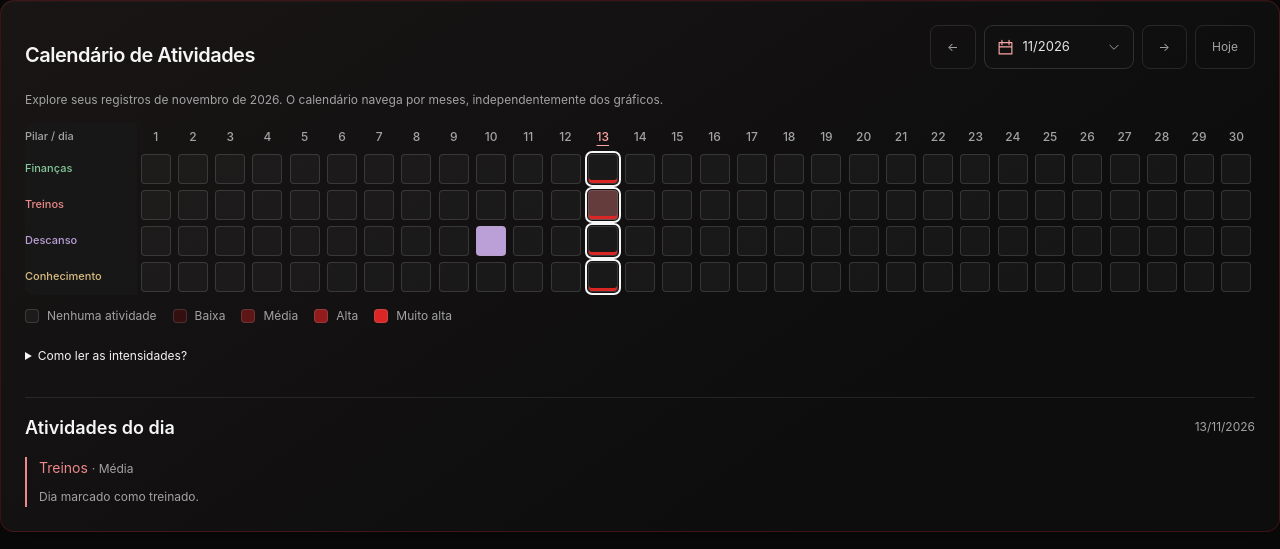
Scenario: Navegação temporal do calendário › rola somente a área do calendário ao abrir um mês e suavemente ao tocar em Hoje
This screenshot has width=1280, height=549.
Click the button named "Mês anterior de atividades": (953, 47) [930,25,976,69]
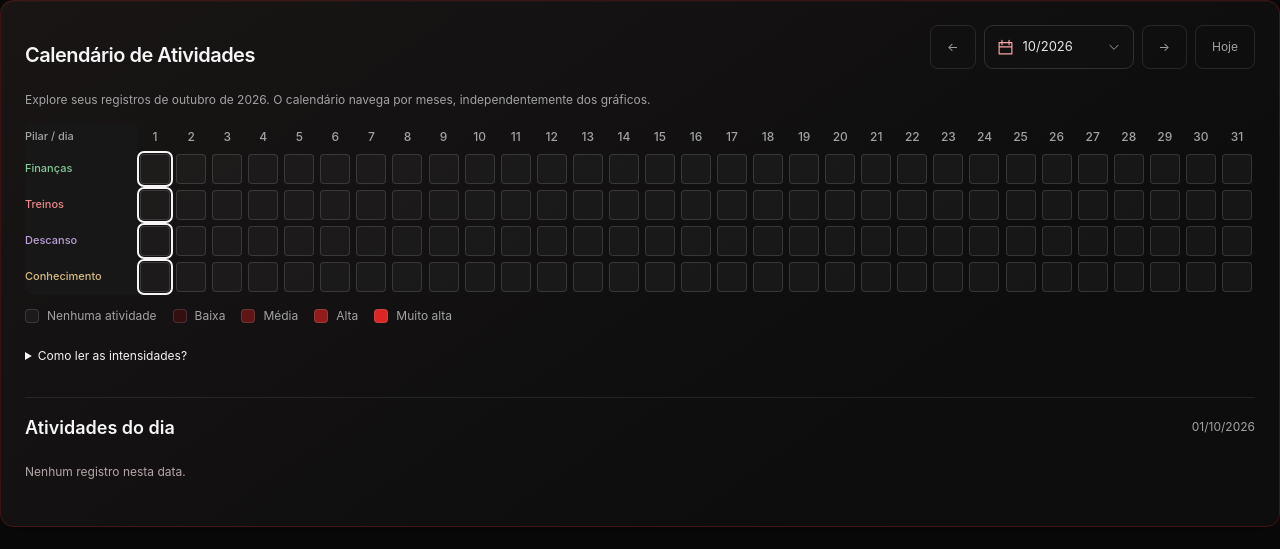
expect the element "Atividades do dia" shows "01/10/2026": met, box [1192,419,1255,434]
Click the button "Hoje": (1225, 47) [1195,25,1255,69]
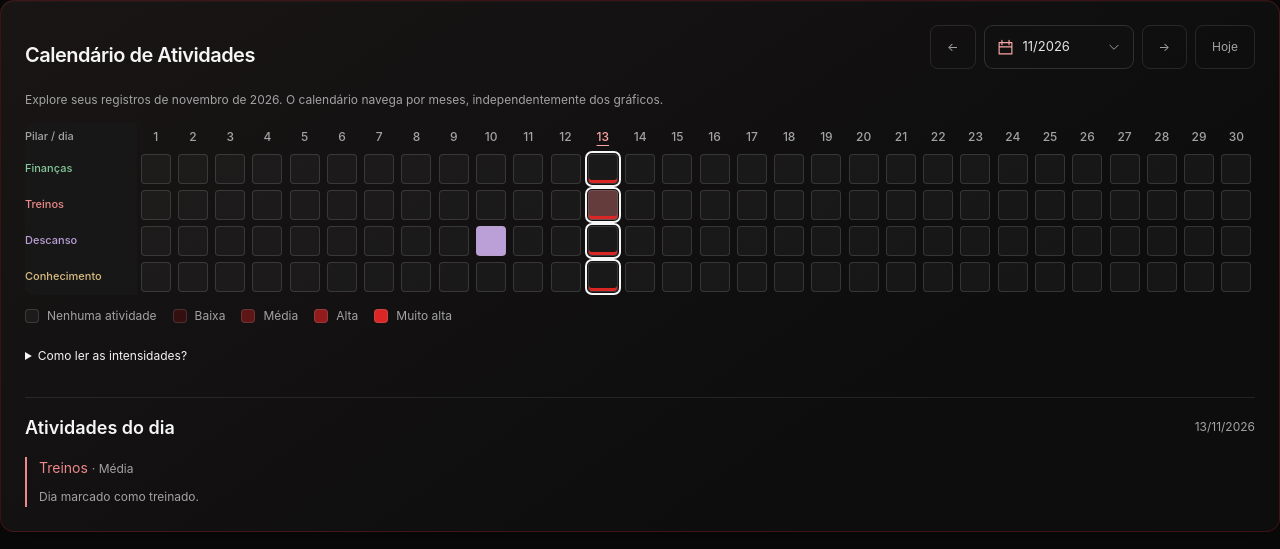
expect the element "Atividades do dia" shows "13/11/2026": met, box [1195,419,1255,434]
Hoje no mês atual também volta à data, mesmo sem trocar de mês.
Click the button named "Finanças, 02/11/2026: Nenhuma atividade": (193, 169) [174,151,212,187]
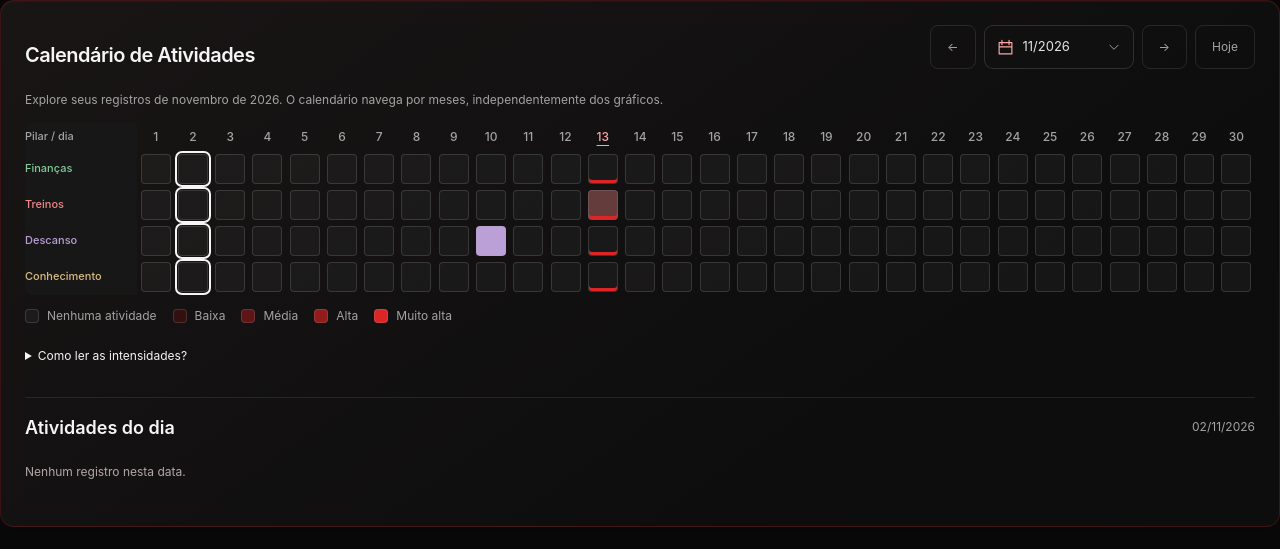
Click the button "Hoje": (1225, 47) [1195,25,1255,69]
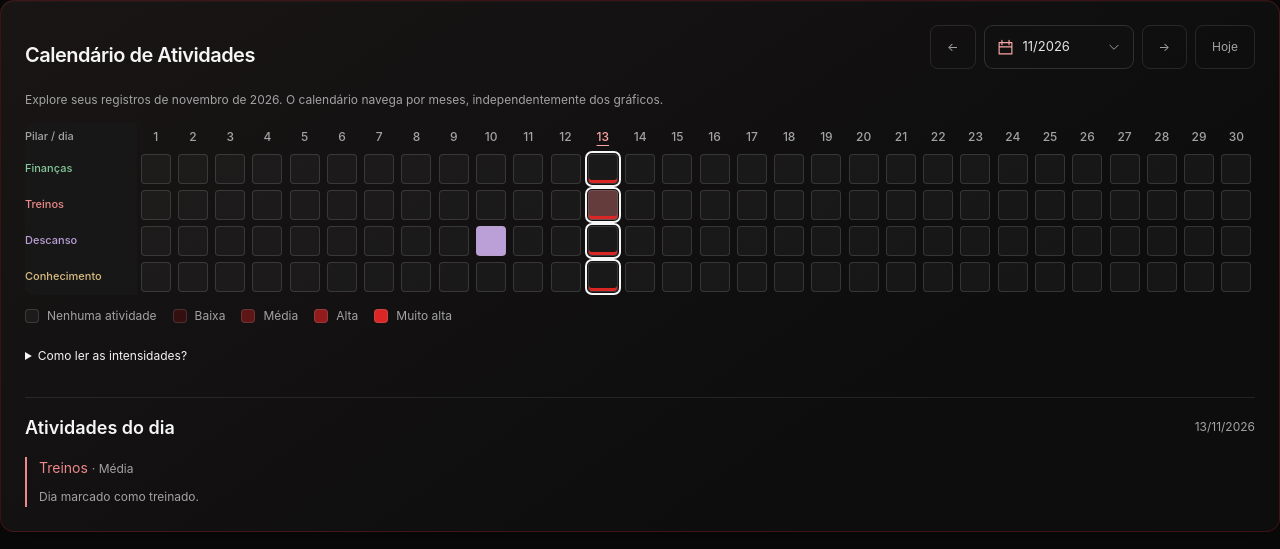
expect the element "Atividades do dia" shows "13/11/2026": met, box [1195,419,1255,434]
